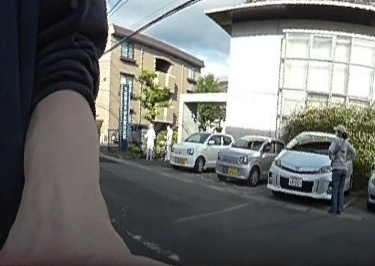person: (328, 120, 352, 212), (165, 124, 174, 159), (144, 124, 154, 154)
